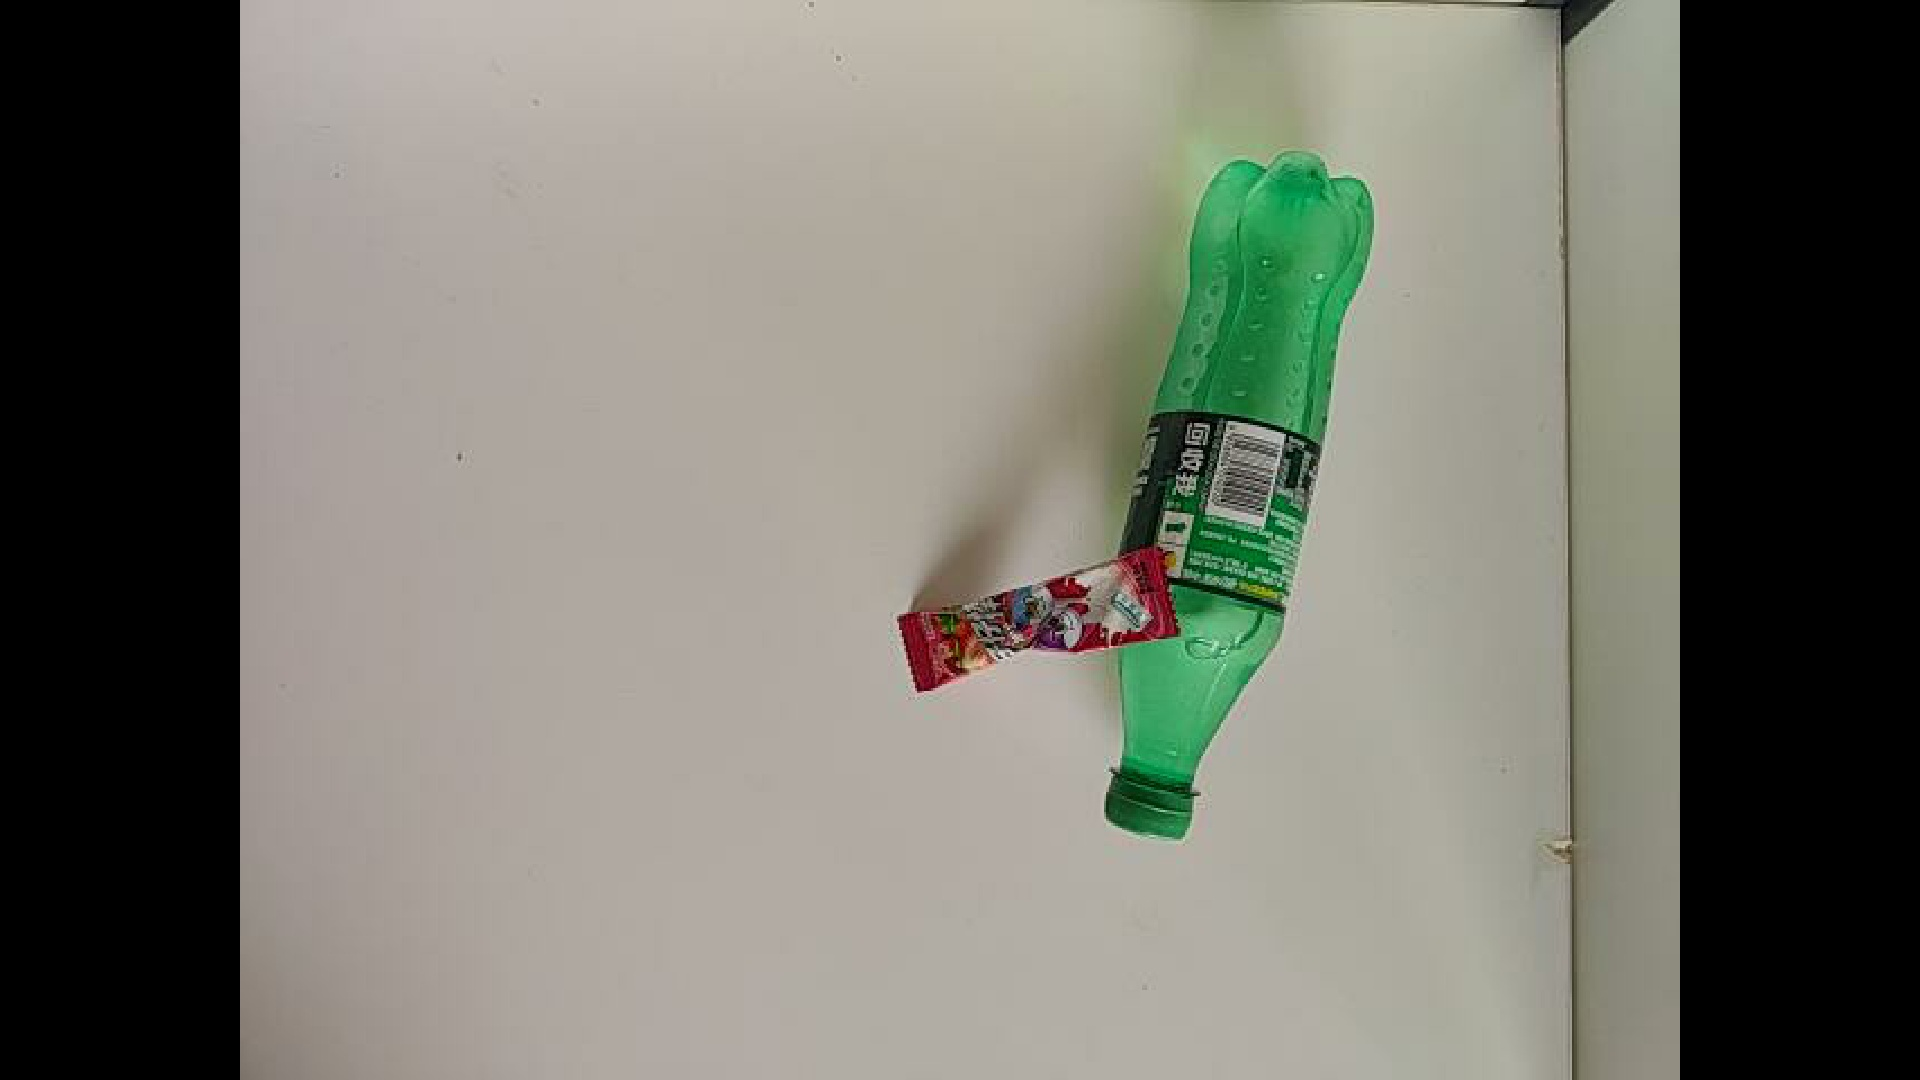sprite: (924, 127, 1394, 841)
sugar: (893, 570, 1200, 698)
